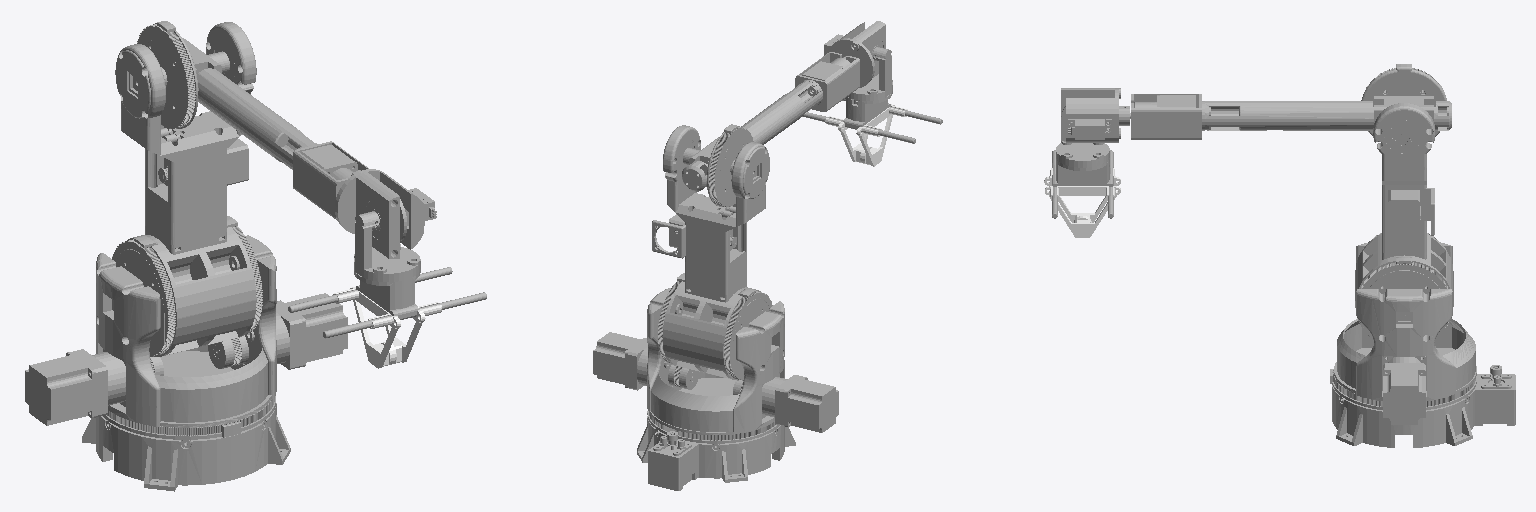
URDF robot description (ERA):
<?xml version="1.0" encoding="utf-8"?>
<!-- This URDF was automatically created by SolidWorks to URDF Exporter! Originally created by [author] ([email redacted]) 
     Commit Version: 1.6.0-4-g7f85cfe  Build Version: 1.6.7995.38578
     For more information, please see http://wiki.ros.org/sw_urdf_exporter -->
<robot
  name="ERA">
  <link
    name="link_0">
    <inertial>
      <origin
        xyz="8.1811E-06 0.064148 0.028491"
        rpy="0 0 0" />
      <mass
        value="1.4573" />
      <inertia
        ixx="0.0028441"
        ixy="-6.1635E-07"
        ixz="9.4583E-08"
        iyy="0.0021256"
        iyz="-2.3032E-05"
        izz="0.0044372" />
    </inertial>
    <visual>
      <origin
        xyz="0 0 0"
        rpy="0 0 0" />
      <geometry>
        <mesh
          filename="package://ERA/meshes/link_0.STL" />
      </geometry>
      <material
        name="">
        <color
          rgba="0.75294 0.75294 0.75294 1" />
      </material>
    </visual>
    <collision>
      <origin
        xyz="0 0 0"
        rpy="0 0 0" />
      <geometry>
        <mesh
          filename="package://ERA/meshes/link_0.STL" />
      </geometry>
    </collision>
  </link>
  <link
    name="link_1">
    <inertial>
      <origin
        xyz="-8.8702E-05 0.078879 1.4751E-06"
        rpy="0 0 0" />
      <mass
        value="4.9252" />
      <inertia
        ixx="0.0097895"
        ixy="7.2357E-06"
        ixz="3.8633E-07"
        iyy="0.0085832"
        iyz="3.054E-07"
        izz="0.0070331" />
    </inertial>
    <visual>
      <origin
        xyz="0 0 0"
        rpy="0 0 0" />
      <geometry>
        <mesh
          filename="package://ERA/meshes/link_1.STL" />
      </geometry>
      <material
        name="">
        <color
          rgba="0.75294 0.75294 0.75294 1" />
      </material>
    </visual>
    <collision>
      <origin
        xyz="0 0 0"
        rpy="0 0 0" />
      <geometry>
        <mesh
          filename="package://ERA/meshes/link_1.STL" />
      </geometry>
    </collision>
  </link>
  <joint
    name="joint_1"
    type="revolute">
    <origin
      xyz="0 0 0.189175"
      rpy="-1.5707963267949 0 -1.57079632679489" />
    <parent
      link="link_0" />
    <child
      link="link_1" />
    <axis
      xyz="0 -1 0" />
    <limit
      lower="-2.3562"
      upper="2.3562"
      effort="7.1537"
      velocity="0.2188" />
    <dynamics
      damping="0"
      friction="0" />
  </joint>
  <link
    name="link_2">
    <inertial>
      <origin
        xyz="-0.161262686422663 -0.000136692294061287 0.00782963077501265"
        rpy="0 0 0" />
      <mass
        value="2.9773709327159" />
      <inertia
        ixx="0.00395741063536684"
        ixy="-7.0717706514214E-06"
        ixz="3.50706079497188E-05"
        iyy="0.00625338013677875"
        iyz="1.23578595324686E-05"
        izz="0.00571589927544615" />
    </inertial>
    <visual>
      <origin
        xyz="0 0 0"
        rpy="0 0 0" />
      <geometry>
        <mesh
          filename="package://ERA/meshes/link_2.STL" />
      </geometry>
      <material
        name="">
        <color
          rgba="0.752941176470588 0.752941176470588 0.752941176470588 1" />
      </material>
    </visual>
    <collision>
      <origin
        xyz="0 0 0"
        rpy="0 0 0" />
      <geometry>
        <mesh
          filename="package://ERA/meshes/link_2.STL" />
      </geometry>
    </collision>
  </link>
  <joint
    name="joint_2"
    type="revolute">
    <origin
      xyz="0.000123744699244387 -0.25567672725 0.00148999999984069"
      rpy="0 0 -1.5707963267949" />
    <parent
      link="link_1" />
    <child
      link="link_2" />
    <axis
      xyz="0 0 1" />
    <limit
      lower="-1.5708"
      upper="1.5708"
      effort="86.211"
      velocity="0.1163" />
    <dynamics
      damping="0"
      friction="0" />
  </joint>
  <link
    name="link_3">
    <inertial>
      <origin
        xyz="-0.000370885475026561 0.00229294620635992 0.21175082194751"
        rpy="0 0 0" />
      <mass
        value="1.40082730035319" />
      <inertia
        ixx="0.00418608582348626"
        ixy="-9.33789806278587E-06"
        ixz="2.72602723246538E-05"
        iyy="0.00424310951501921"
        iyz="0.000187610491595618"
        izz="0.000494915913062191" />
    </inertial>
    <visual>
      <origin
        xyz="0 0 0"
        rpy="0 0 0" />
      <geometry>
        <mesh
          filename="package://ERA/meshes/link_3.STL" />
      </geometry>
      <material
        name="">
        <color
          rgba="0.752941176470588 0.752941176470588 0.752941176470588 1" />
      </material>
    </visual>
    <collision>
      <origin
        xyz="0 0 0"
        rpy="0 0 0" />
      <geometry>
        <mesh
          filename="package://ERA/meshes/link_3.STL" />
      </geometry>
    </collision>
  </link>
  <joint
    name="joint_3"
    type="revolute">
    <origin
      xyz="0 0 0"
      rpy="-1.5707963267949 0 0" />
    <parent
      link="link_2" />
    <child
      link="link_3" />
    <axis
      xyz="0 1 0" />
    <limit
      lower="-3.927"
      upper="0.7854"
      effort="24.654"
      velocity="0.0635" />
    <dynamics
      damping="0"
      friction="0" />
  </joint>
  <link
    name="link_4">
    <inertial>
      <origin
        xyz="7.04690138053632E-06 0.00950257370630442 0.00737940778529239"
        rpy="0 0 0" />
      <mass
        value="0.346752223723456" />
      <inertia
        ixx="0.000135202143666052"
        ixy="-7.18609035495795E-08"
        ixz="3.02444532301698E-08"
        iyy="0.00010581833342793"
        iyz="1.68938256287117E-05"
        izz="0.000173704607483614" />
    </inertial>
    <visual>
      <origin
        xyz="0 0 0"
        rpy="0 0 0" />
      <geometry>
        <mesh
          filename="package://ERA/meshes/link_4.STL" />
      </geometry>
      <material
        name="">
        <color
          rgba="0.752941176470588 0.752941176470588 0.752941176470588 1" />
      </material>
    </visual>
    <collision>
      <origin
        xyz="0 0 0"
        rpy="0 0 0" />
      <geometry>
        <mesh
          filename="package://ERA/meshes/link_4.STL" />
      </geometry>
    </collision>
  </link>
  <joint
    name="joint_4"
    type="revolute">
    <origin
      xyz="0 0 0.428399999999979"
      rpy="-1.57079632679491 0 -3.1415926535893" />
    <parent
      link="link_3" />
    <child
      link="link_4" />
    <axis
      xyz="0 -1 0" />
    <limit
      lower="-2.3562"
      upper="2.3562"
      effort="15.93"
      velocity="0.0982" />
    <dynamics
      damping="0"
      friction="0" />
  </joint>
  <link
    name="link_5">
    <inertial>
      <origin
        xyz="-1.3738E-06 -0.10051 -0.0017487"
        rpy="0 0 0" />
      <mass
        value="0.15564" />
      <inertia
        ixx="0.00013453"
        ixy="3.9846E-07"
        ixz="-1.0521E-08"
        iyy="0.0001752"
        iyz="-9.0766E-06"
        izz="0.00010461" />
    </inertial>
    <visual>
      <origin
        xyz="0 0 0"
        rpy="0 0 0" />
      <geometry>
        <mesh
          filename="package://ERA/meshes/link_5.STL" />
      </geometry>
      <material
        name="">
        <color
          rgba="0.75294 0.75294 0.75294 1" />
      </material>
    </visual>
    <collision>
      <origin
        xyz="0 0 0"
        rpy="0 0 0" />
      <geometry>
        <mesh
          filename="package://ERA/meshes/link_5.STL" />
      </geometry>
    </collision>
  </link>
  <joint
    name="joint_5"
    type="revolute">
    <origin
      xyz="0.16115 0 0"
      rpy="0 0 -1.5708" />
    <parent
      link="link_4" />
    <child
      link="link_5" />
    <axis
      xyz="0 0 -1" />
    <limit
      lower="-3.927"
      upper="0.7854"
      effort="3.5"
      velocity="7.48" />
    <dynamics
      damping="0"
      friction="0" />
  </joint>
  <link
    name="link_6_1">
    <inertial>
      <origin
        xyz="8.8999E-07 -0.028749 0.015149"
        rpy="0 0 0" />
      <mass
        value="0.019387" />
      <inertia
        ixx="1.6008E-05"
        ixy="2.8705E-09"
        ixz="-1.7551E-09"
        iyy="1.1841E-05"
        iyz="2.6004E-06"
        izz="2.5312E-05" />
    </inertial>
    <visual>
      <origin
        xyz="0 0 0"
        rpy="0 0 0" />
      <geometry>
        <mesh
          filename="package://ERA/meshes/link_6_1.STL" />
      </geometry>
      <material
        name="">
        <color
          rgba="1 1 1 1" />
      </material>
    </visual>
    <collision>
      <origin
        xyz="0 0 0"
        rpy="0 0 0" />
      <geometry>
        <mesh
          filename="package://ERA/meshes/link_6_1.STL" />
      </geometry>
    </collision>
  </link>
  <joint
    name="joint_6_1"
    type="prismatic">
    <origin
      xyz="0 0 0"
      rpy="0 0 0" />
    <parent
      link="link_5" />
    <child
      link="link_6_1" />
    <axis
      xyz="0 0 -1" />
    <limit
      lower="0"
      upper="0.32"
      effort="218.75"
      velocity="0.016" />
    <dynamics
      damping="0"
      friction="0" />
  </joint>
  <link
    name="link_6_2">
    <inertial>
      <origin
        xyz="4.2572E-06 -0.0288 0.013728"
        rpy="0 0 0" />
      <mass
        value="0.019424" />
      <inertia
        ixx="1.6036E-05"
        ixy="-5.7669E-10"
        ixz="2.141E-09"
        iyy="1.1905E-05"
        iyz="2.5998E-06"
        izz="2.5404E-05" />
    </inertial>
    <visual>
      <origin
        xyz="0 0 0"
        rpy="0 0 0" />
      <geometry>
        <mesh
          filename="package://ERA/meshes/link_6_2.STL" />
      </geometry>
      <material
        name="">
        <color
          rgba="1 1 1 1" />
      </material>
    </visual>
    <collision>
      <origin
        xyz="0 0 0"
        rpy="0 0 0" />
      <geometry>
        <mesh
          filename="package://ERA/meshes/link_6_2.STL" />
      </geometry>
    </collision>
  </link>
  <joint
    name="joint_6_2"
    type="prismatic">
    <origin
      xyz="0 0 0"
      rpy="3.1416 0 3.1416" />
    <parent
      link="link_5" />
    <child
      link="link_6_2" />
    <axis
      xyz="0 0 1" />
    <limit
      lower="0"
      upper="0.05"
      effort="218.75"
      velocity="0.016" />
  </joint>
</robot>

--- Facts derived from the render (not from the file) ---
Views: 3 orthographic renders of the robot side by side, from view 1: azimuth 30°, elevation 25°; view 2: azimuth 150°, elevation 25°; view 3: azimuth 270°, elevation 25°.
Robot: ERA — 8 links, 7 joints (5 revolute, 2 prismatic); root link link_0; default pose: every joint at zero.
Links seen in each view (by area): view 1: link_1, link_2, link_3, link_0, link_5, link_4, link_6_2, link_6_1; view 2: link_2, link_1, link_3, link_0, link_5, link_4, link_6_2; view 3: link_1, link_2, link_3, link_0, link_4, link_5, link_6_1.
Link boxes in pixels (x1=…): link_1: x1=25, y1=235, x2=347, y2=439; link_2: x1=112, y1=22, x2=262, y2=356; link_3: x1=133, y1=21, x2=368, y2=219; link_0: x1=82, y1=403, x2=290, y2=491; link_5: x1=288, y1=199, x2=486, y2=338; link_4: x1=335, y1=169, x2=436, y2=258; link_6_2: x1=333, y1=287, x2=400, y2=368; link_6_1: x1=385, y1=302, x2=441, y2=364; link_2: x1=652, y1=125, x2=772, y2=380; link_1: x1=593, y1=288, x2=838, y2=443; link_3: x1=682, y1=52, x2=859, y2=206; link_0: x1=637, y1=416, x2=795, y2=490; link_5: x1=802, y1=47, x2=942, y2=143; link_4: x1=824, y1=21, x2=885, y2=87; link_6_2: x1=856, y1=104, x2=907, y2=166; link_1: x1=1330, y1=242, x2=1476, y2=424; link_2: x1=1355, y1=103, x2=1453, y2=339; link_3: x1=1130, y1=64, x2=1451, y2=139; link_0: x1=1332, y1=365, x2=1515, y2=447; link_4: x1=1061, y1=88, x2=1129, y2=142; link_5: x1=1052, y1=106, x2=1113, y2=218; link_6_1: x1=1045, y1=186, x2=1120, y2=237.
Bounding box of the posed robot: 0.367 × 0.6276 × 0.5065 m (x, y, z).
8 mesh visuals loaded from 8 distinct referenced files (8 binary STL).